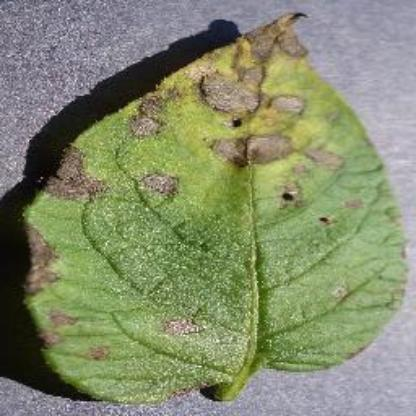Early-Blight: (15, 1, 415, 404)
